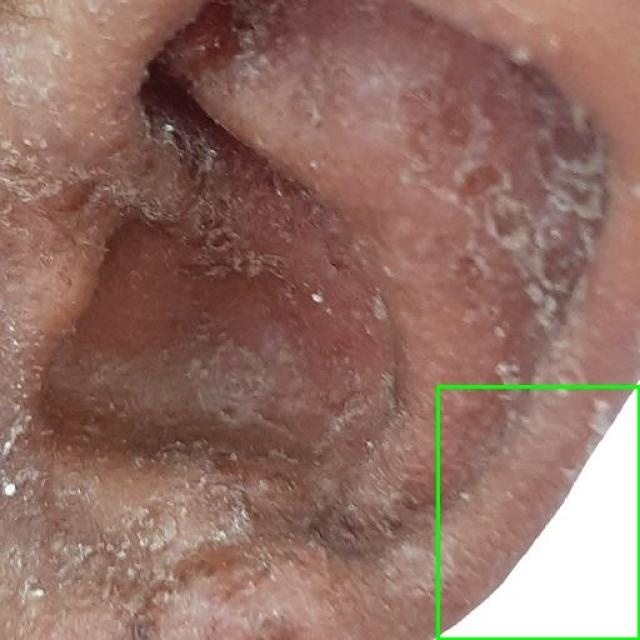Eczema: (438, 386, 639, 639)
